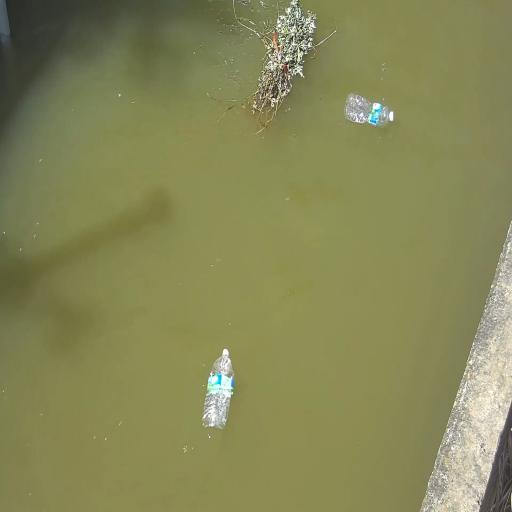plastic: (203, 349, 234, 429), (344, 93, 393, 127)
